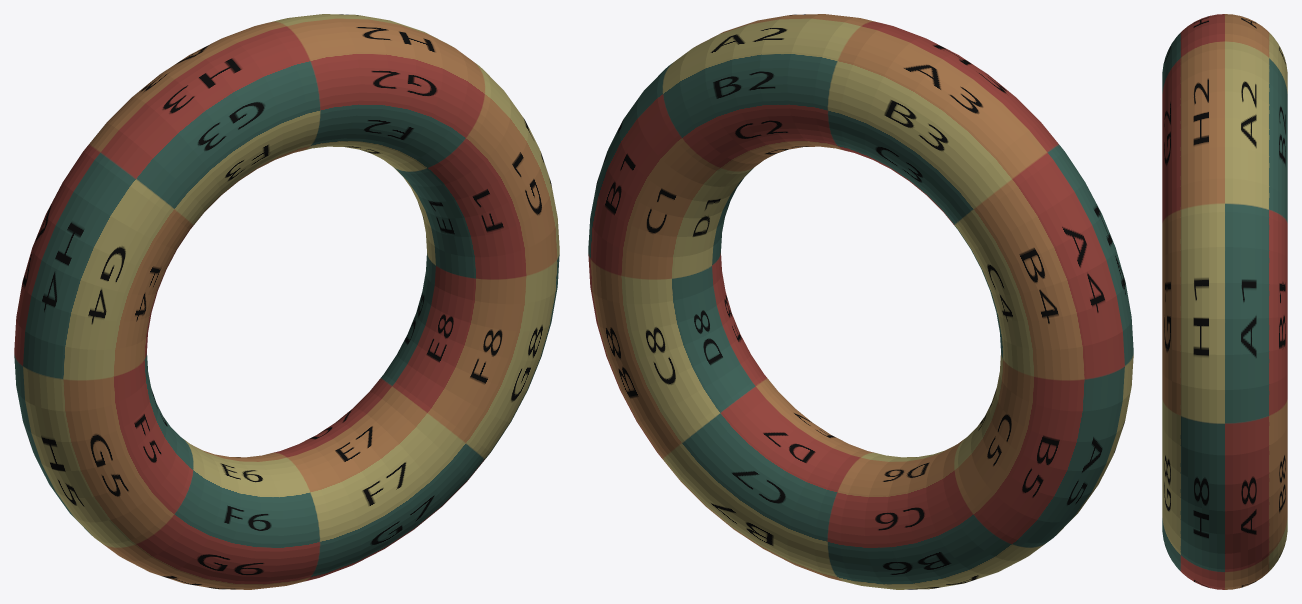
File: texture_torus_R13_r12.glb
The picture shows the model from 3 angles, left to right: view 1: azimuth 30°, elevation 25°; view 2: azimuth 150°, elevation 25°; view 3: azimuth 270°, elevation 25°; orthographic projection. The views are drawn at different scales.
Parts seen in each view (by area): view 1: world; view 2: world; view 3: world.
Part boxes in pixels (x1=…): world: x1=14, y1=14, x2=559, y2=589; world: x1=588, y1=14, x2=1133, y2=589; world: x1=1162, y1=14, x2=1287, y2=589.
Bounding box in the file's own units: 23.87 × 23.82 × 5.19.
1 material, 1 textured.
